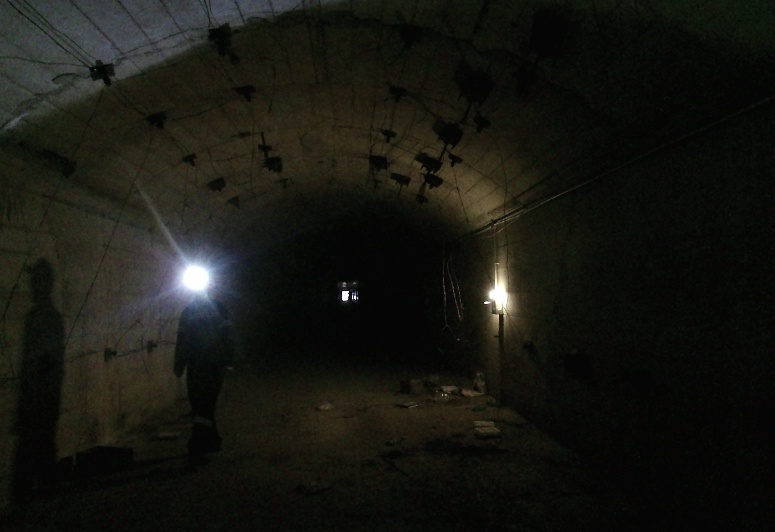person: (173, 273, 257, 468)
